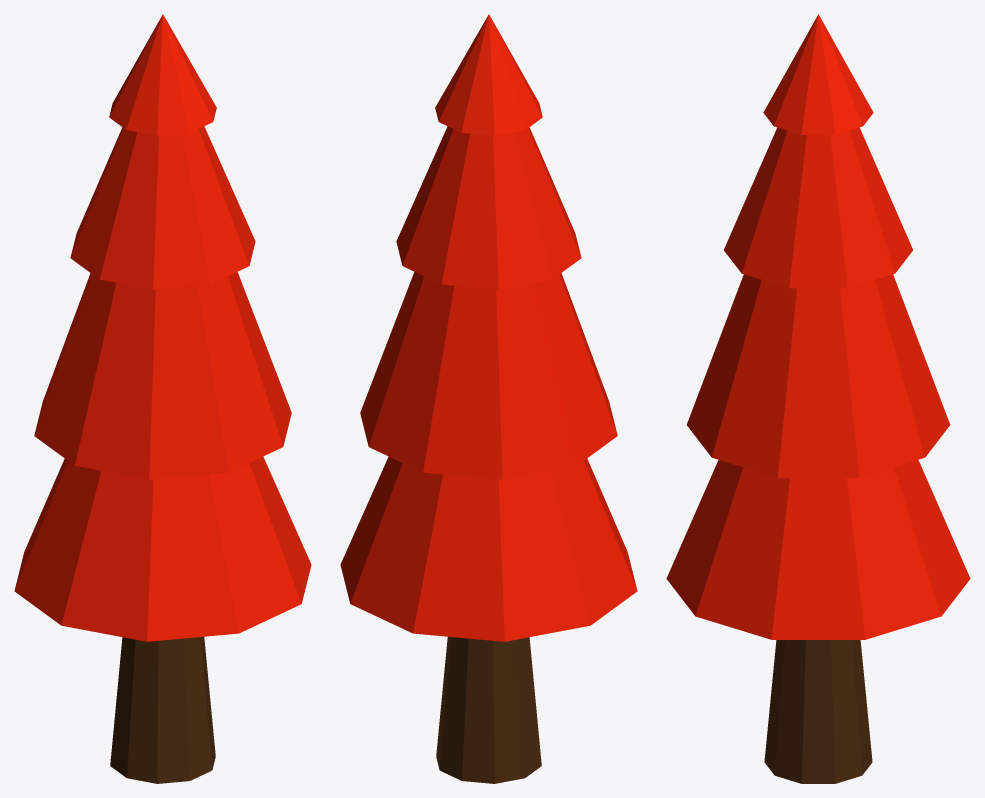
File: Tall_Pine_003.fbx
The picture shows the model from 3 angles, left to right: view 1: azimuth 30°, elevation 25°; view 2: azimuth 150°, elevation 25°; view 3: azimuth 270°, elevation 25°; orthographic projection.
Parts seen in each view (by area): view 1: Tall Pine.003; view 2: Tall Pine.003; view 3: Tall Pine.003.
Part boxes in pixels (bbox=[...]): Tall Pine.003: bbox=[14, 14, 311, 783]; Tall Pine.003: bbox=[340, 14, 637, 783]; Tall Pine.003: bbox=[666, 14, 970, 783].
Size of the model in its own units: 165 by 471 by 173.
